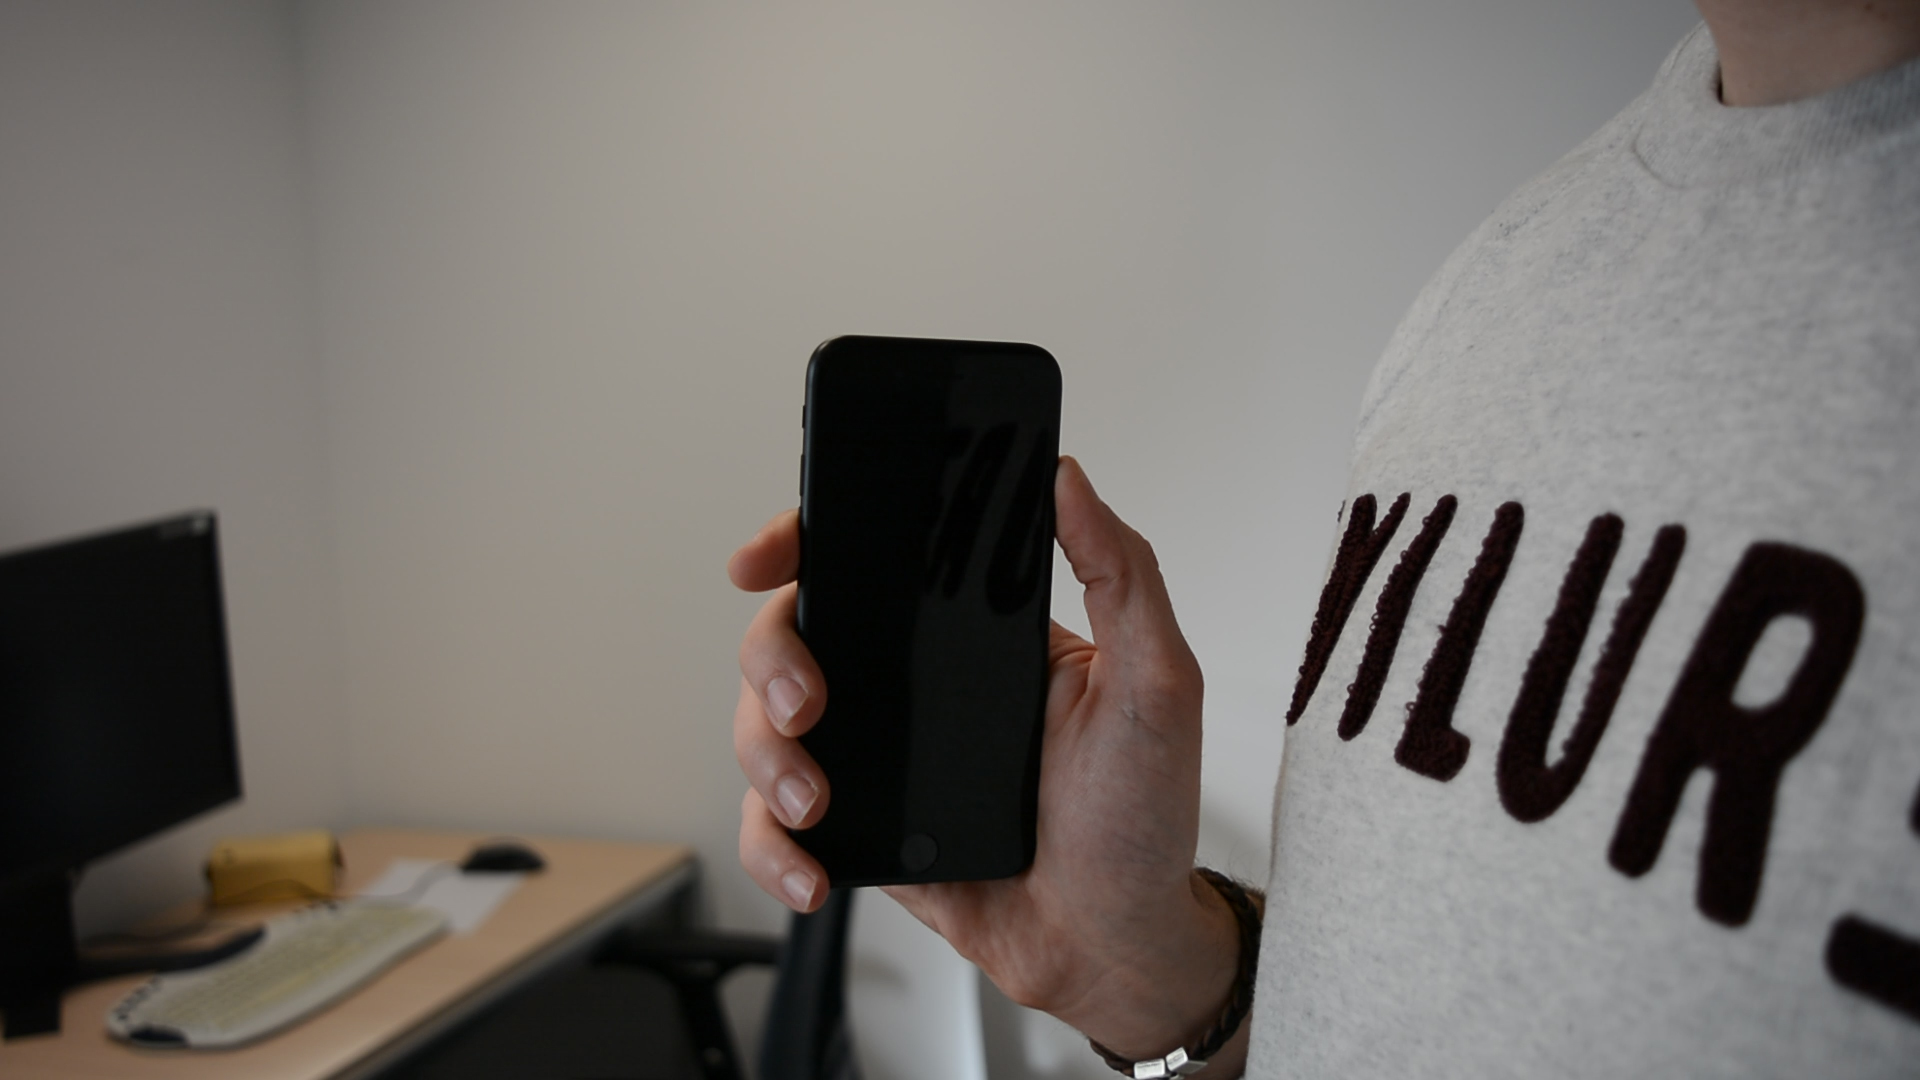smartphone: (771, 334, 1065, 891)
